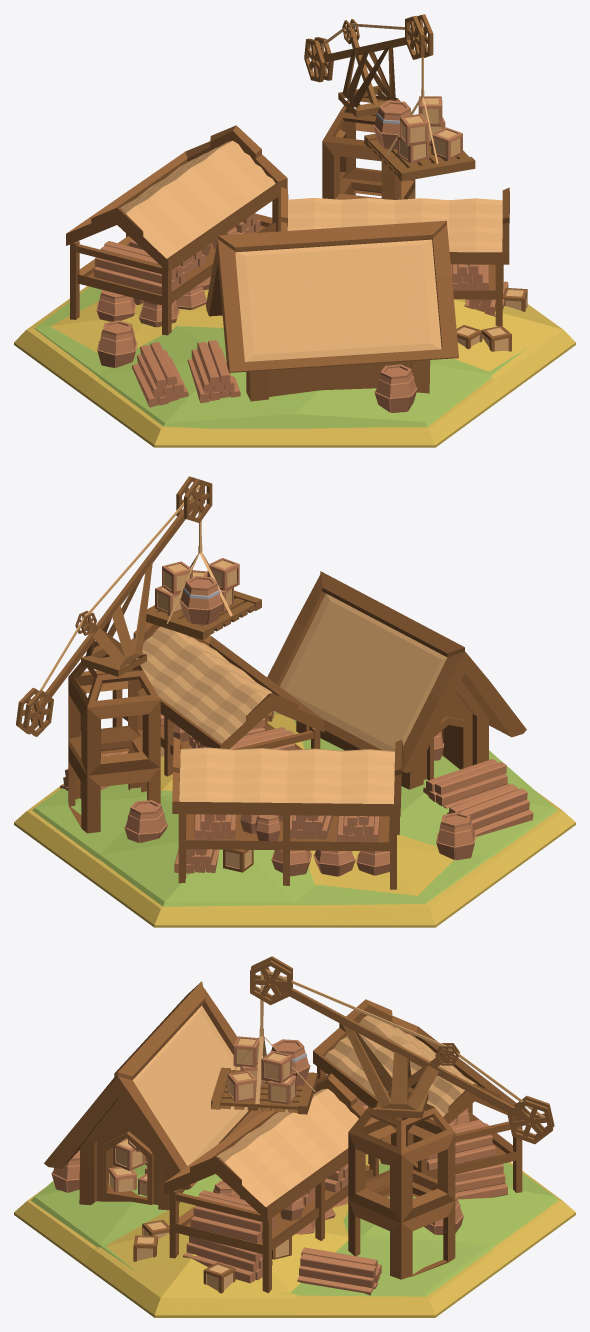
The model's file is storehouse.glb.
3 renders of one model, top to bottom at view 1: azimuth 30°, elevation 25°; view 2: azimuth 150°, elevation 25°; view 3: azimuth 270°, elevation 25°, orthographic.
Parts seen in each view (by area): view 1: land, animation; view 2: land, animation; view 3: land, animation.
Part boxes in pixels (x1,y1,x2,y2): land: [14, 95, 575, 447]; animation: [304, 14, 475, 181]; land: [14, 571, 575, 927]; animation: [16, 476, 261, 736]; land: [14, 981, 575, 1317]; animation: [211, 956, 554, 1144].
Size of the model in its own units: 1.73 by 1.22 by 2.
2 materials, 2 textured.
